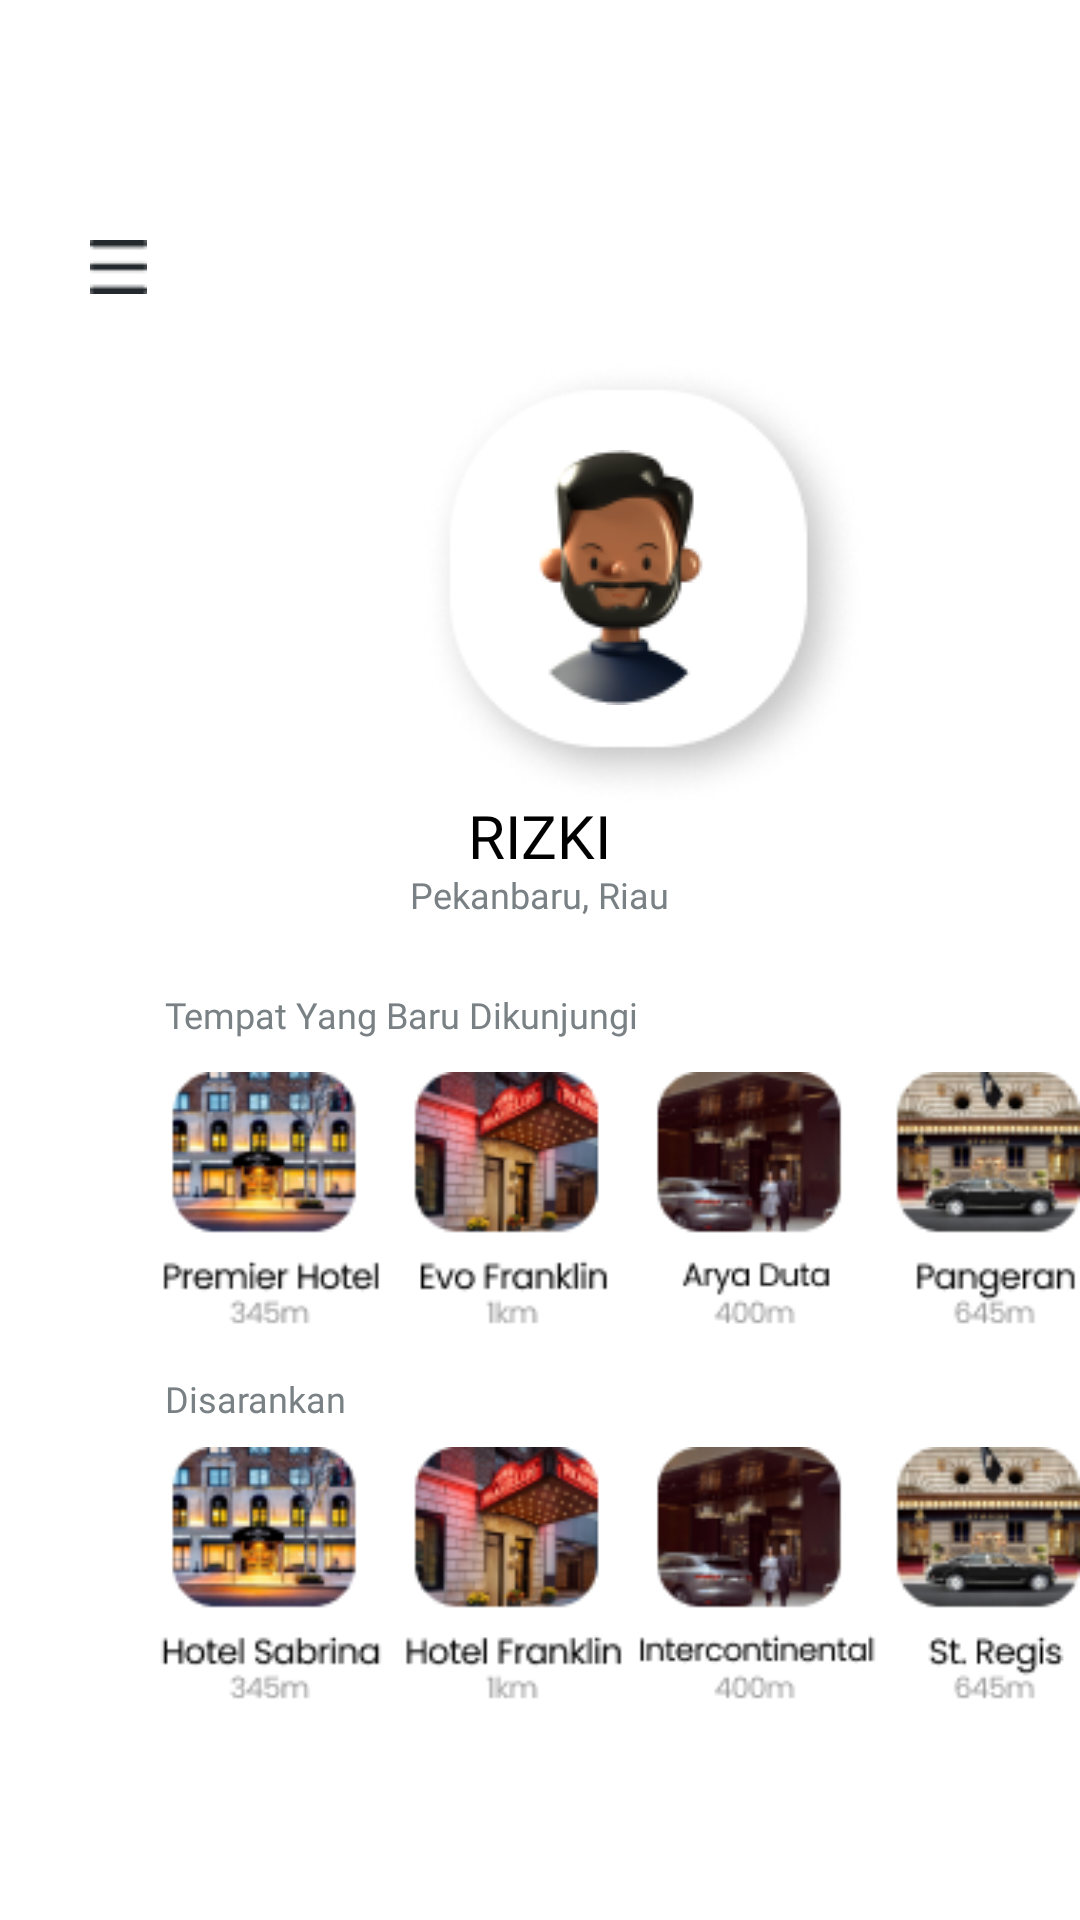

Locate icon controls on the screen. Image size 1080 x 1920, boxes as [x1=x1, y1=y1, x2=x2, y2=y2].
btnmenu: [x1=90, y1=240, x2=147, y2=294]
imgprofil: [x1=539, y1=450, x2=703, y2=705]
